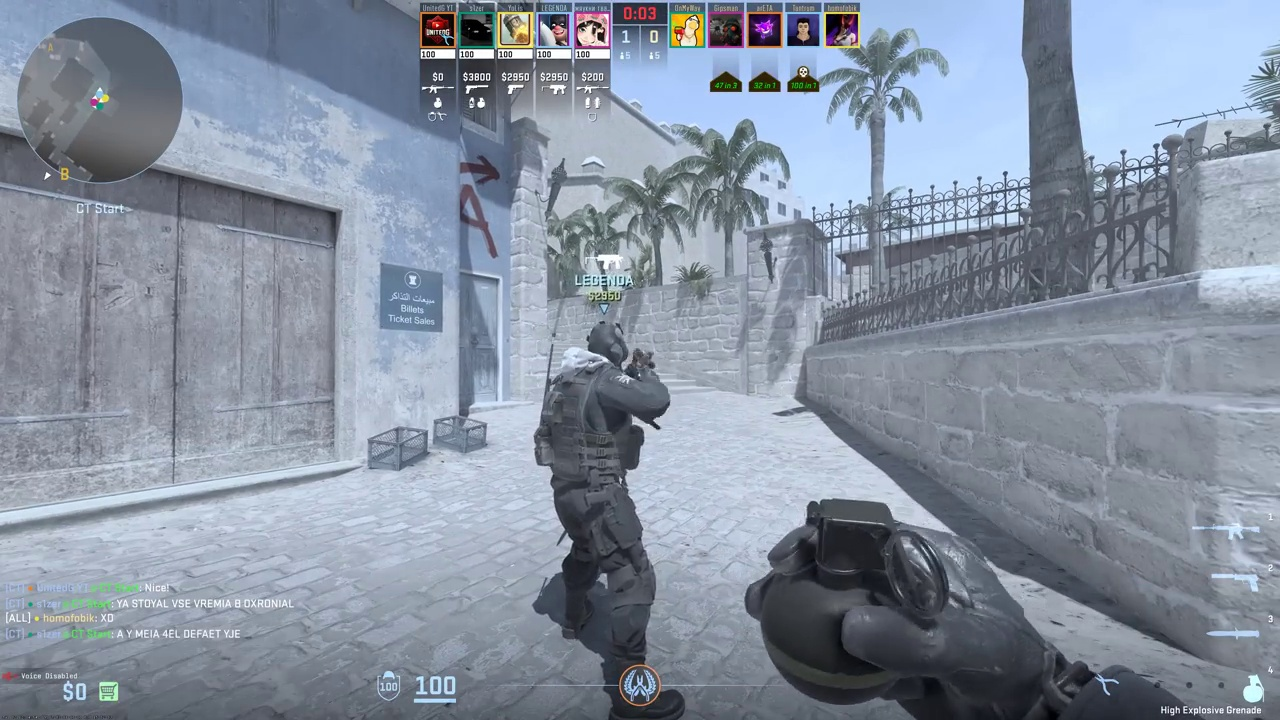CT: (546, 322, 664, 675)
